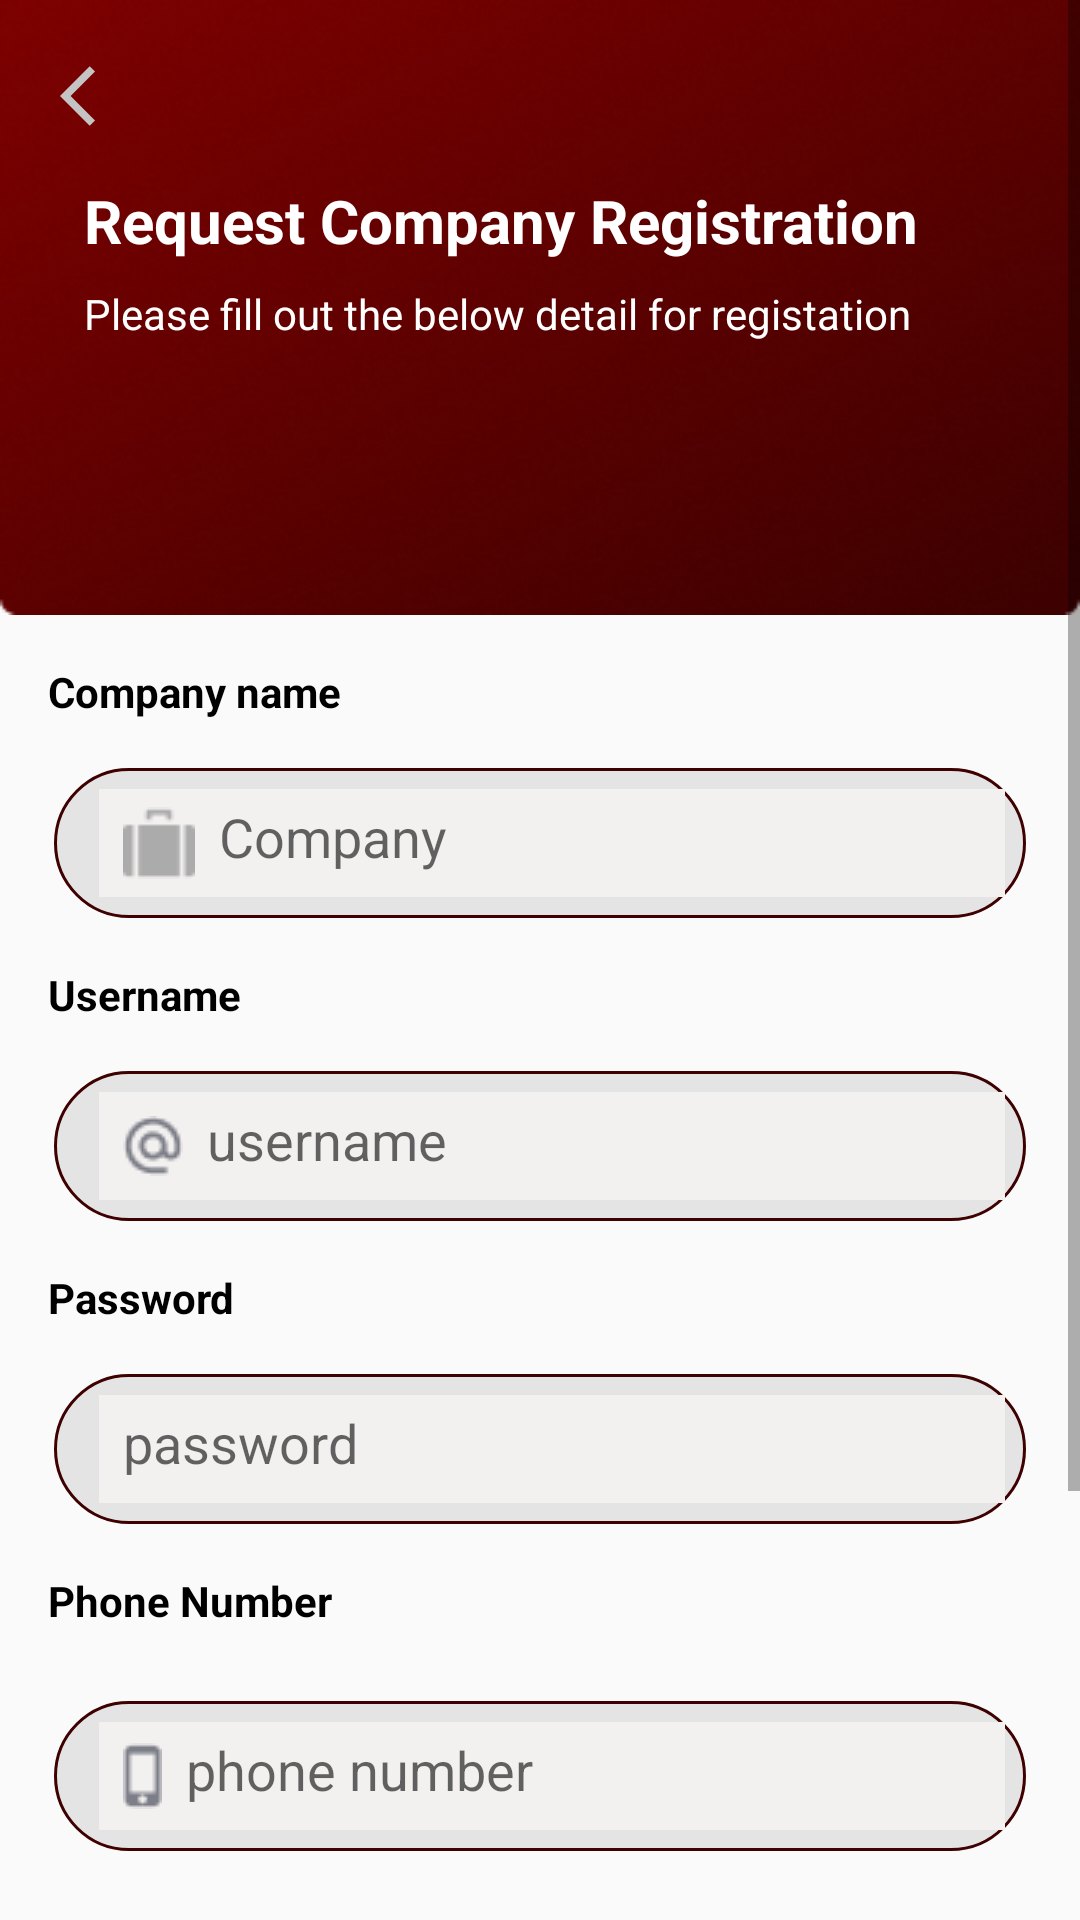

Icon click points for this 1080×1920 phone screenshot, format (x=x, y=y):
arrow back: (x=77, y=96)
